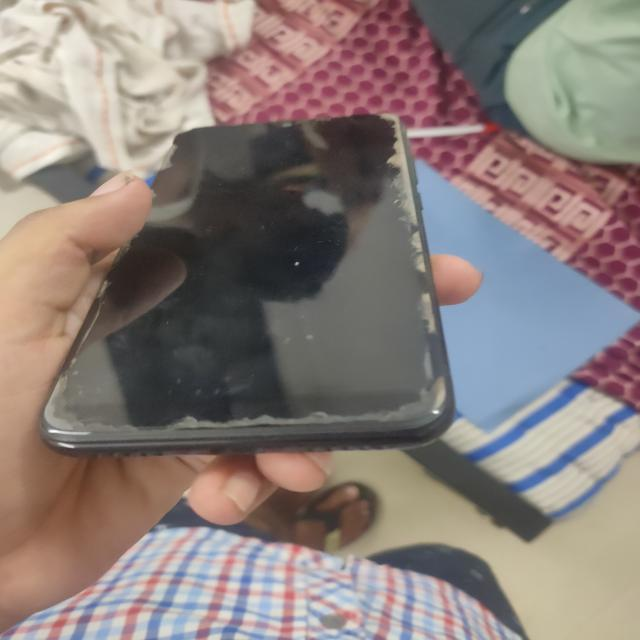Phone: (36, 107, 459, 460)
